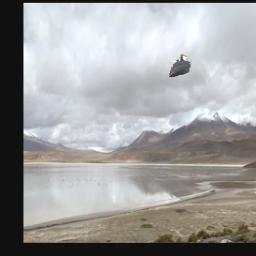Woodpecker: (170, 54, 198, 78)
